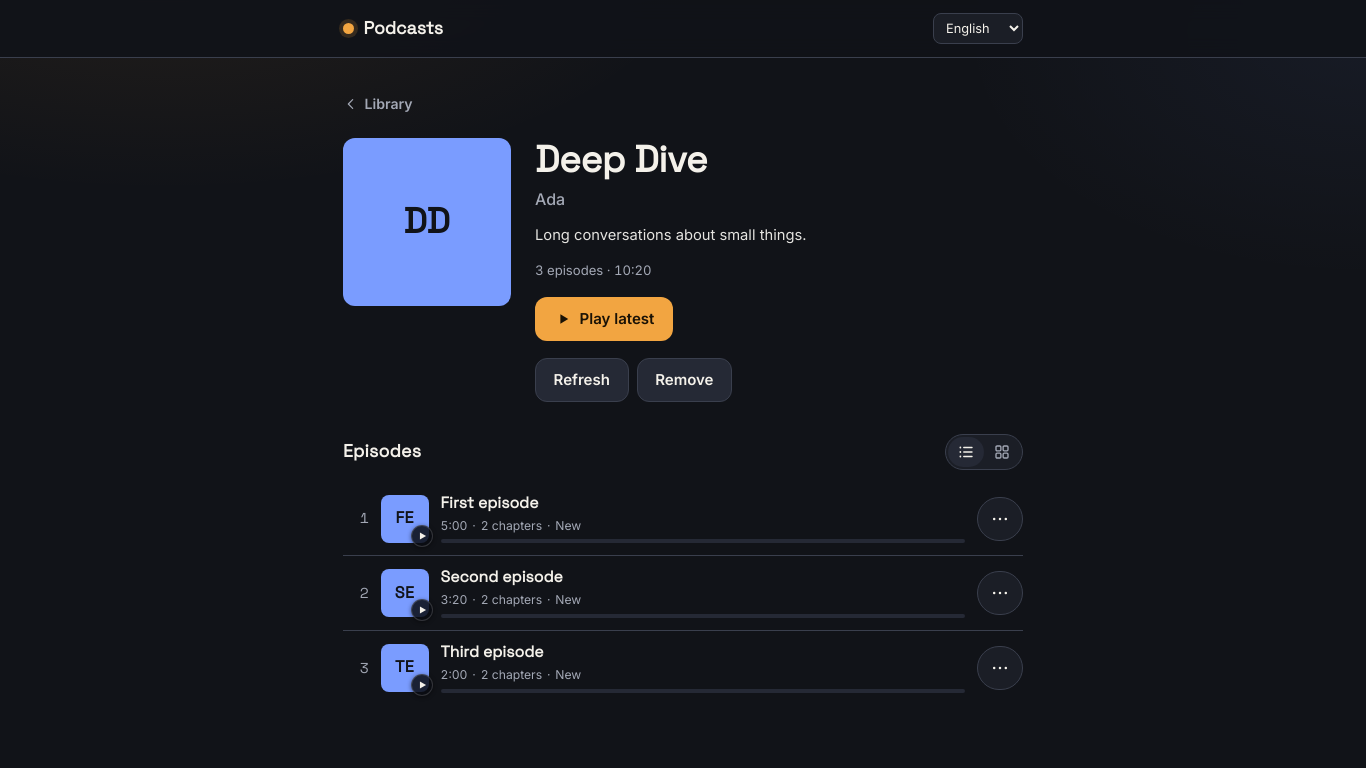
series page › marks an episode as played and unplayed from the row menu
The width and height of the screenshot is (1366, 768).
Check: the number of list items is 3, box x1=343 y1=482 x2=1023 y2=556; x1=343 y1=556 x2=1023 y2=631; x1=343 y1=631 x2=1023 y2=705
Click the button named "More actions for episode 1".
click(1000, 518)  # box x1=977 y1=496 x2=1023 y2=540
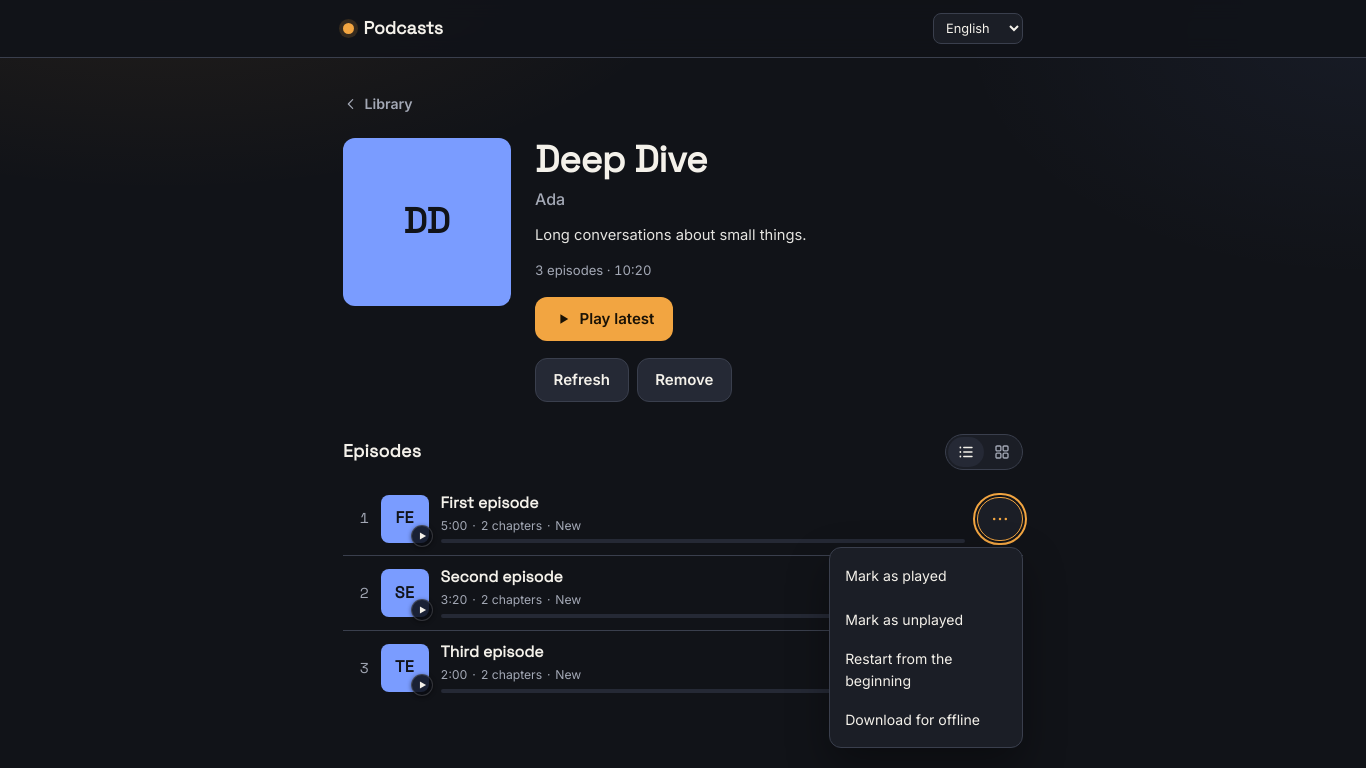
Click the menu item "Mark as played".
click(926, 576)  # box x1=836 y1=554 x2=1016 y2=598
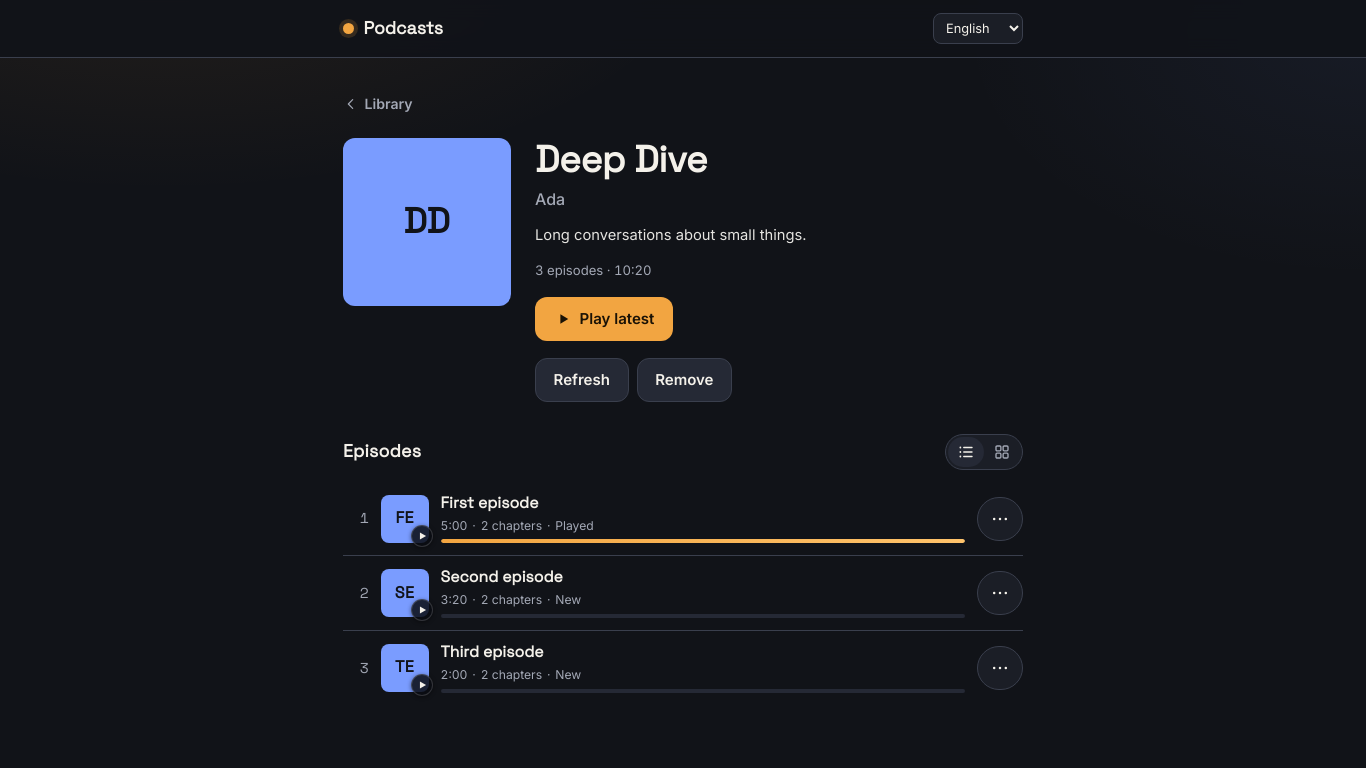
Check: the text "Played" is shown, box x1=555 y1=516 x2=594 y2=535
Click the button named "More actions for episode 1".
click(1000, 518)  # box x1=977 y1=496 x2=1023 y2=540
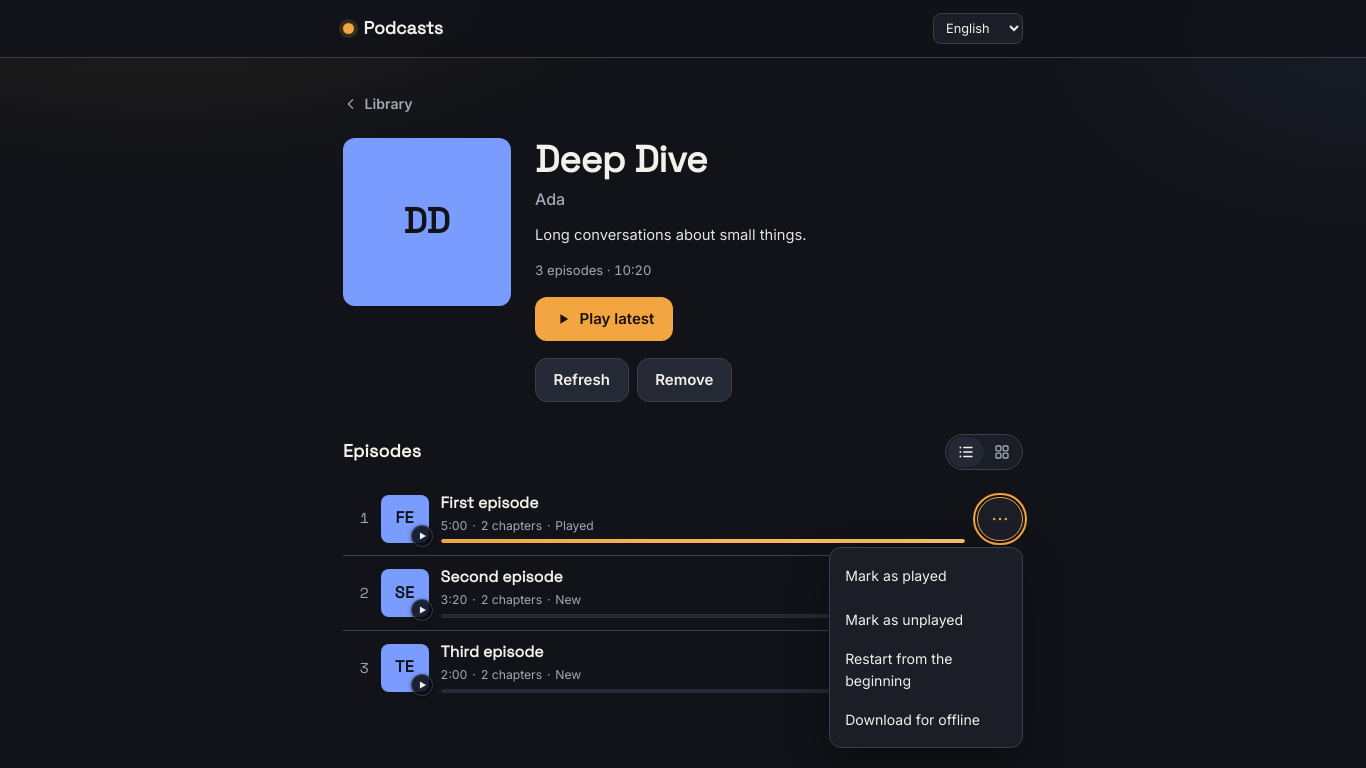
Click the menu item "Mark as unplayed".
click(926, 620)  # box x1=836 y1=598 x2=1016 y2=642
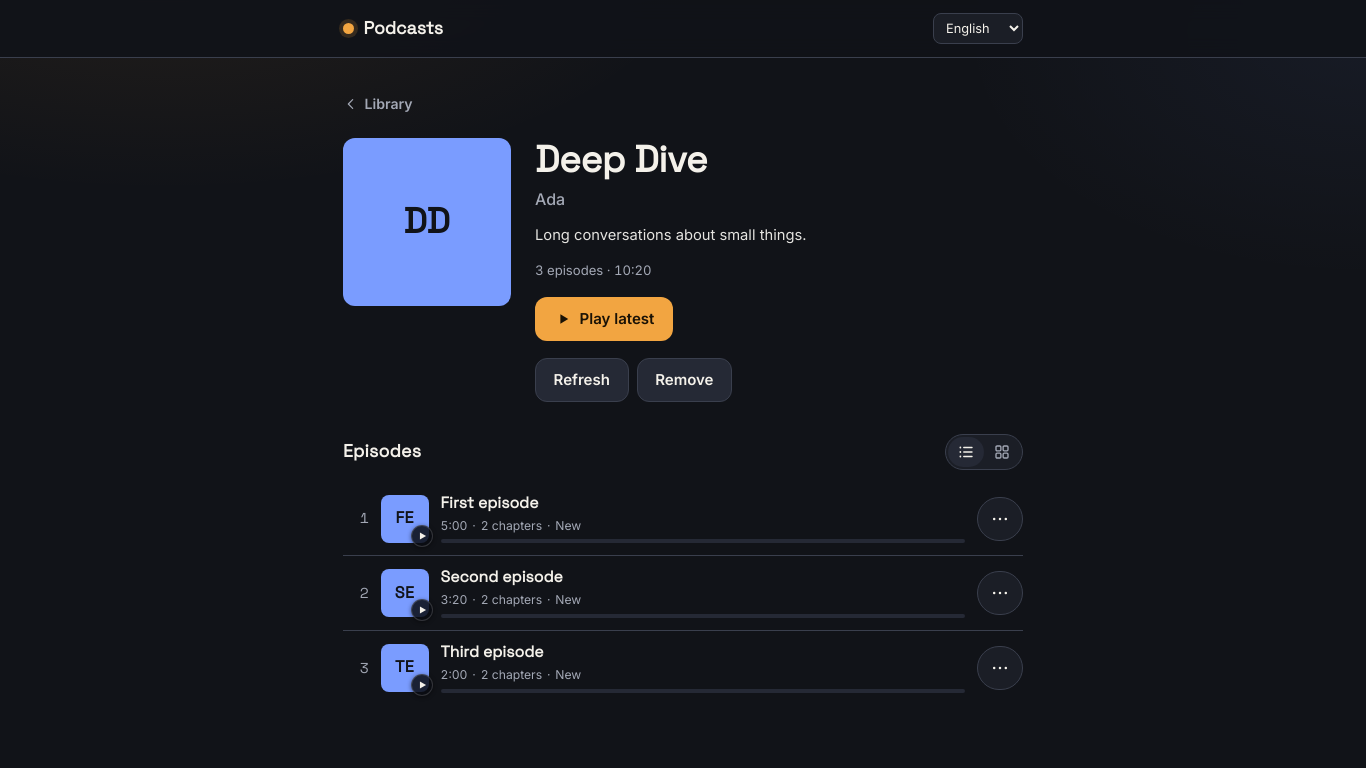
Check: the text "New" in the row of "5:00" is shown, box x1=555 y1=518 x2=581 y2=532
